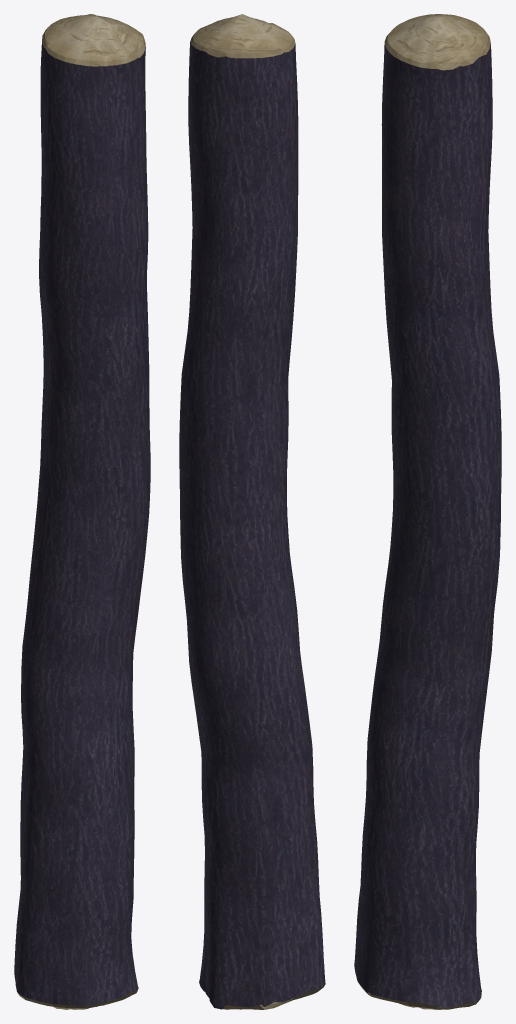
3 renders of one model, left to right at view 1: azimuth 30°, elevation 25°; view 2: azimuth 150°, elevation 25°; view 3: azimuth 330°, elevation 25°, orthographic.
Visible parts, largest first — view 1: SM_GF_Oak_Tree_01_tree_quarters_bottom_LOD0; view 2: SM_GF_Oak_Tree_01_tree_quarters_bottom_LOD0; view 3: SM_GF_Oak_Tree_01_tree_quarters_bottom_LOD0.
Part boxes in pixels (x1,y1,x2,y2): SM_GF_Oak_Tree_01_tree_quarters_bottom_LOD0: [14, 14, 150, 1009]; SM_GF_Oak_Tree_01_tree_quarters_bottom_LOD0: [179, 14, 325, 1009]; SM_GF_Oak_Tree_01_tree_quarters_bottom_LOD0: [354, 14, 501, 1009].
Bounding box in the file's own units: 1.04 × 7.54 × 0.9291.
Materials: 1 (1 with a texture image).
